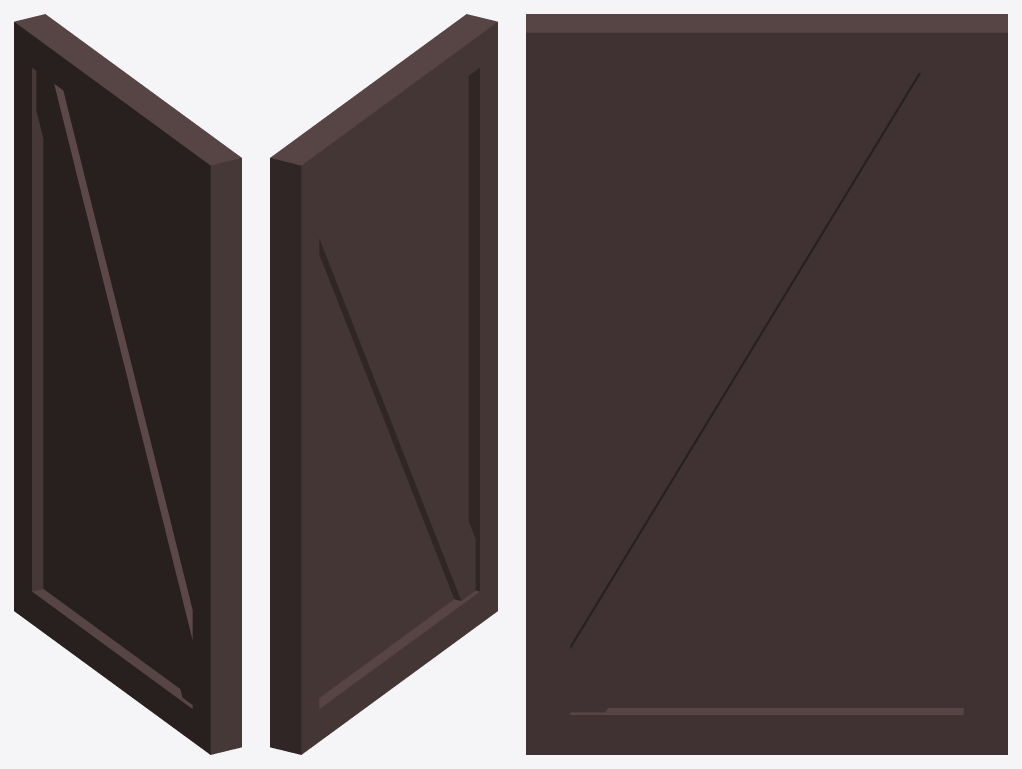
The model's file is builder_62.FBX.
The picture shows the model from 3 angles, left to right: view 1: azimuth 30°, elevation 25°; view 2: azimuth 150°, elevation 25°; view 3: azimuth 270°, elevation 25°; orthographic projection. The views are drawn at different scales.
Visible parts, largest first — view 1: builder_62; view 2: builder_62; view 3: builder_62.
Part boxes in pixels (x1,y1,x2,y2): builder_62: (14,14,241,754); builder_62: (270,14,497,754); builder_62: (526,14,1007,754).
Bounding box in the file's own units: 3.22 × 57.73 × 34.9.
